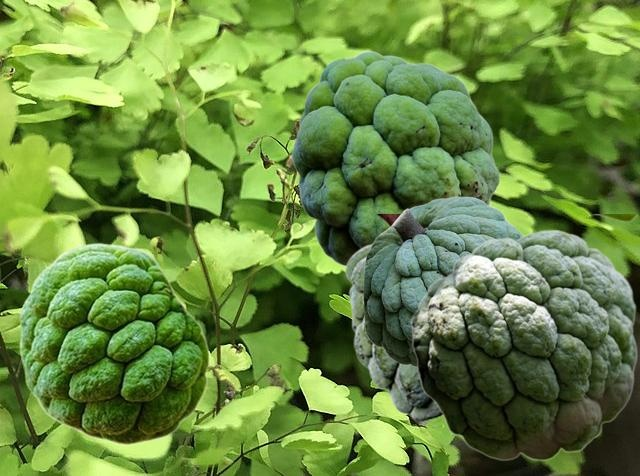atis: (344, 214, 636, 421), (410, 229, 637, 460), (291, 50, 499, 268), (19, 242, 209, 444), (363, 196, 522, 367)
